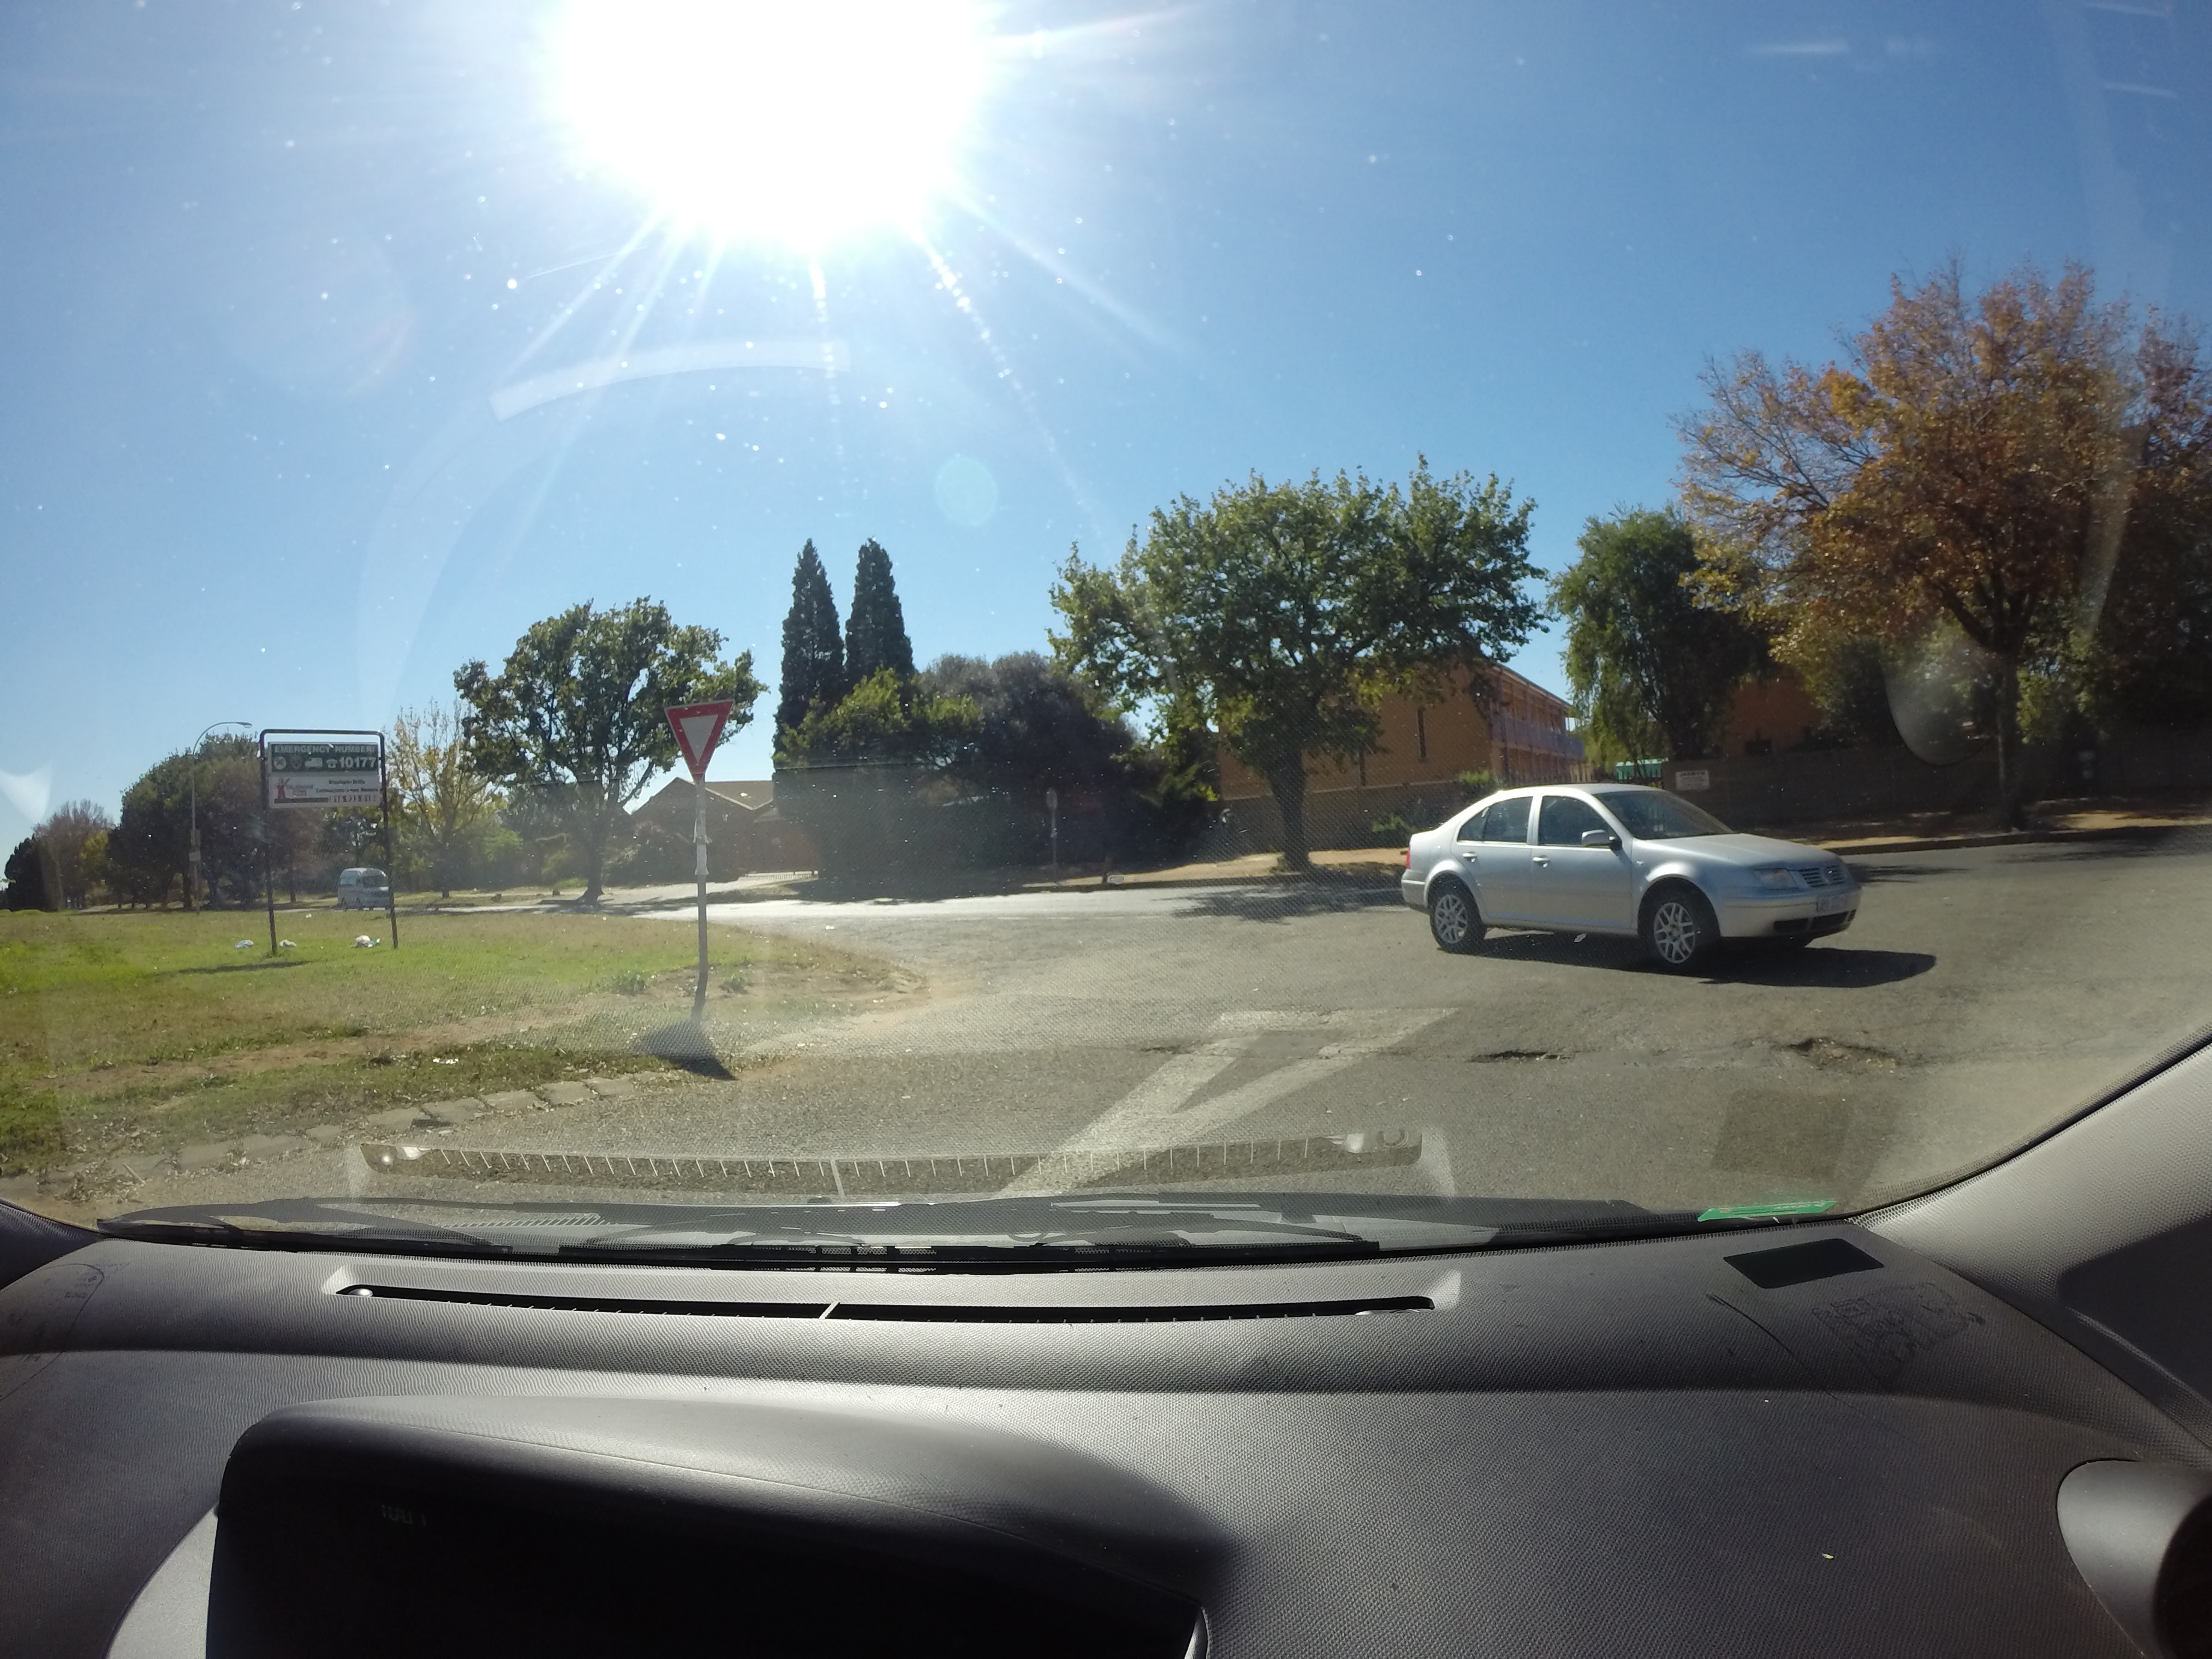pothole: (1756, 1000, 1979, 1126), (1442, 1025, 1573, 1098)
